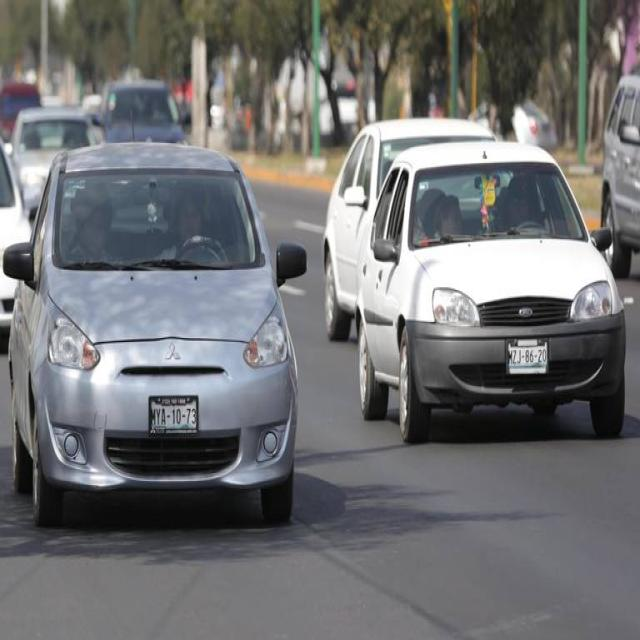placa: (150, 404, 200, 428), (506, 346, 551, 367)
